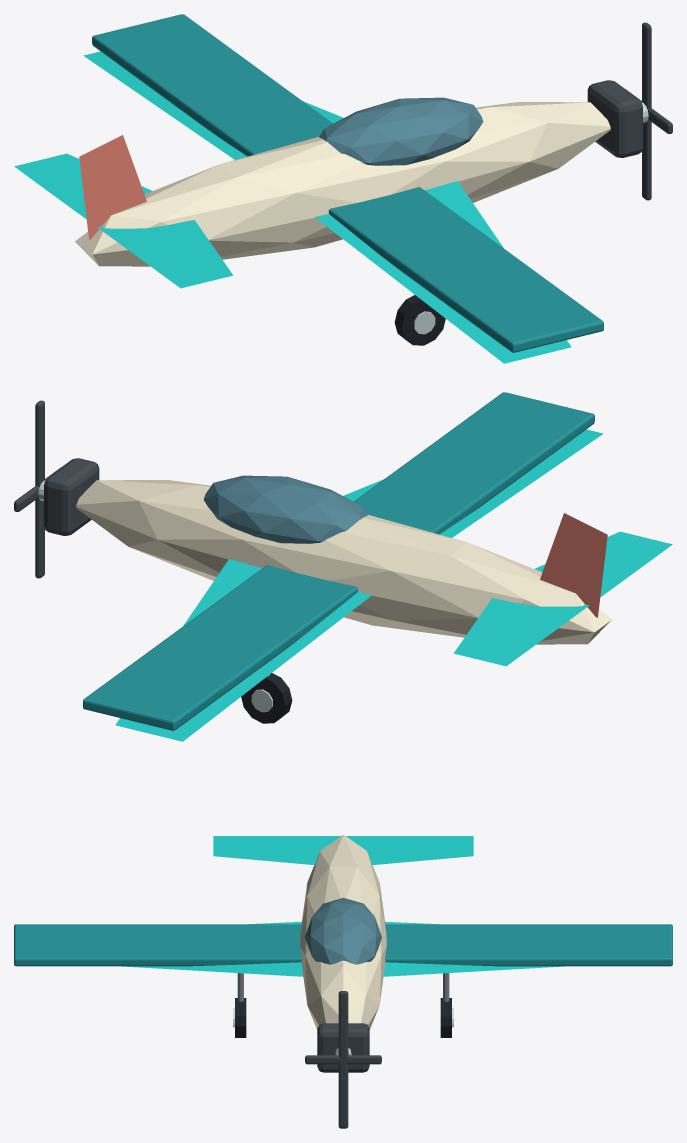
3 renders of one model, top to bottom at view 1: azimuth 30°, elevation 25°; view 2: azimuth 150°, elevation 25°; view 3: azimuth 270°, elevation 25°, orthographic. The views are drawn at different scales.
Visible parts, largest first — view 1: Plane; view 2: Plane; view 3: Plane.
Part boxes in pixels (left/top/right/bottom): Plane: left=14, top=14, right=672, bottom=363; Plane: left=14, top=392, right=672, bottom=741; Plane: left=14, top=835, right=672, bottom=1128.
Bounding box in the file's own units: 692 × 251 × 885.
